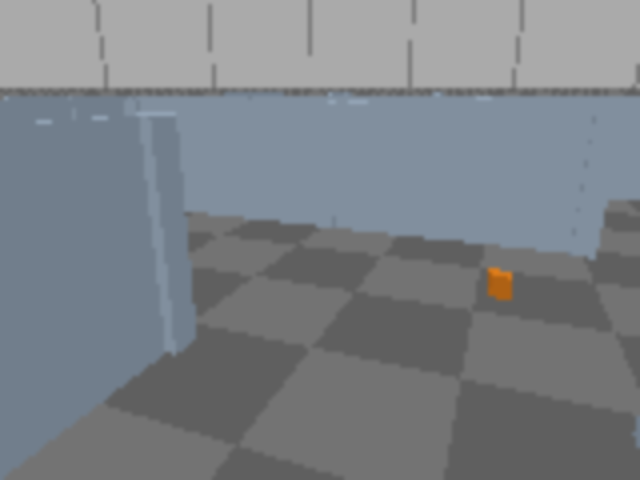puck: (487, 269, 514, 299)
